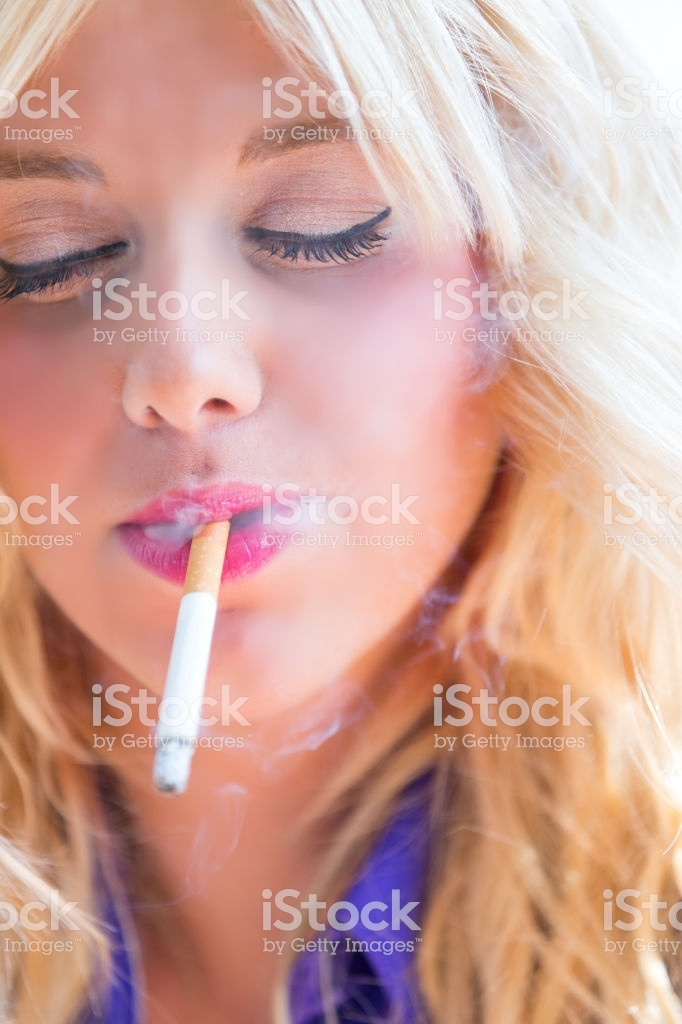sigaretta: (151, 500, 230, 799)
